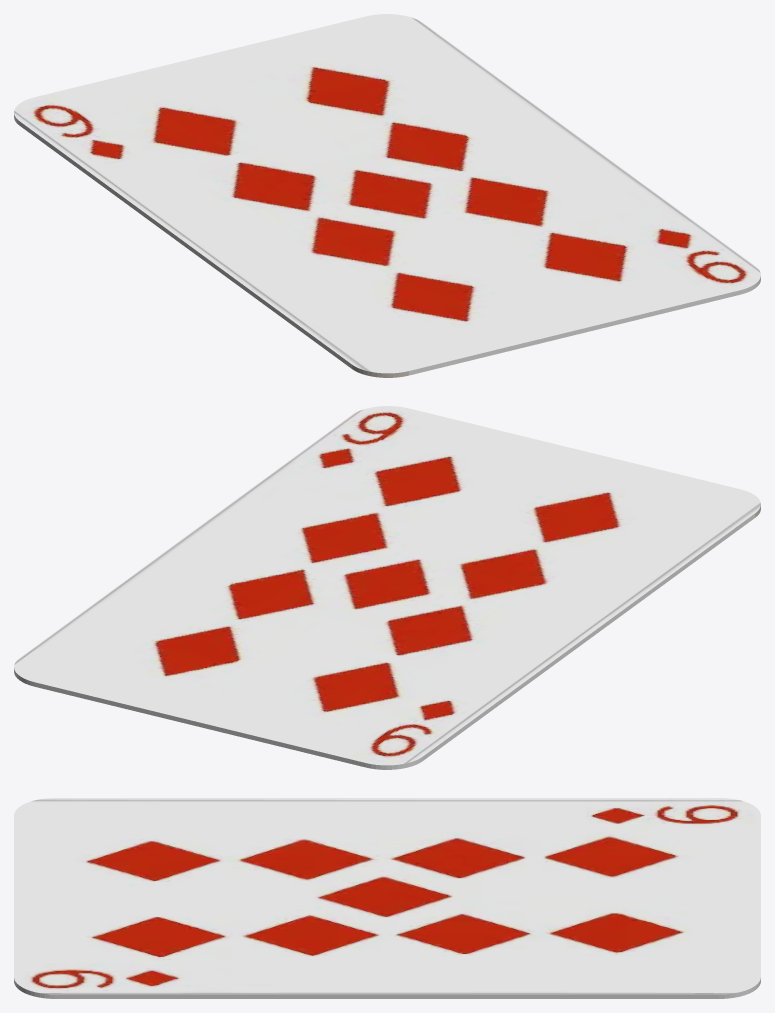
Rendered from 9 of diamonds card.fbx.
The picture shows the model from 3 angles, top to bottom: view 1: azimuth 30°, elevation 25°; view 2: azimuth 150°, elevation 25°; view 3: azimuth 270°, elevation 25°; orthographic projection.
Visible parts, largest first — view 1: Cube; view 2: Cube; view 3: Cube.
Boxes of the visible parts, x1,y1,x2,y2 form: Cube: (14,14,760,377); Cube: (14,406,760,769); Cube: (14,798,760,998).
Bounding box in the file's own units: 5.6 × 0.06 × 9.
3 materials, 2 textured.
